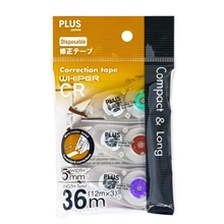correction_fluid: (61, 120, 170, 170), (61, 77, 171, 125), (64, 162, 168, 207)
plastic_bag: (50, 13, 176, 217)
